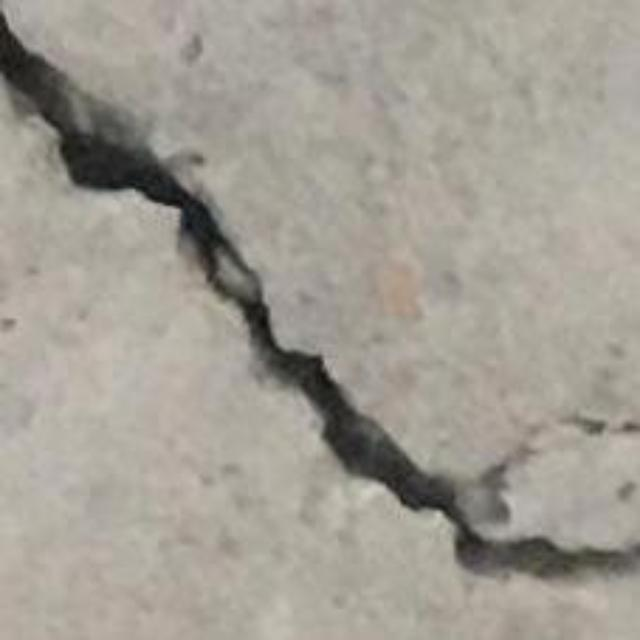crack: (0, 9, 639, 583)
